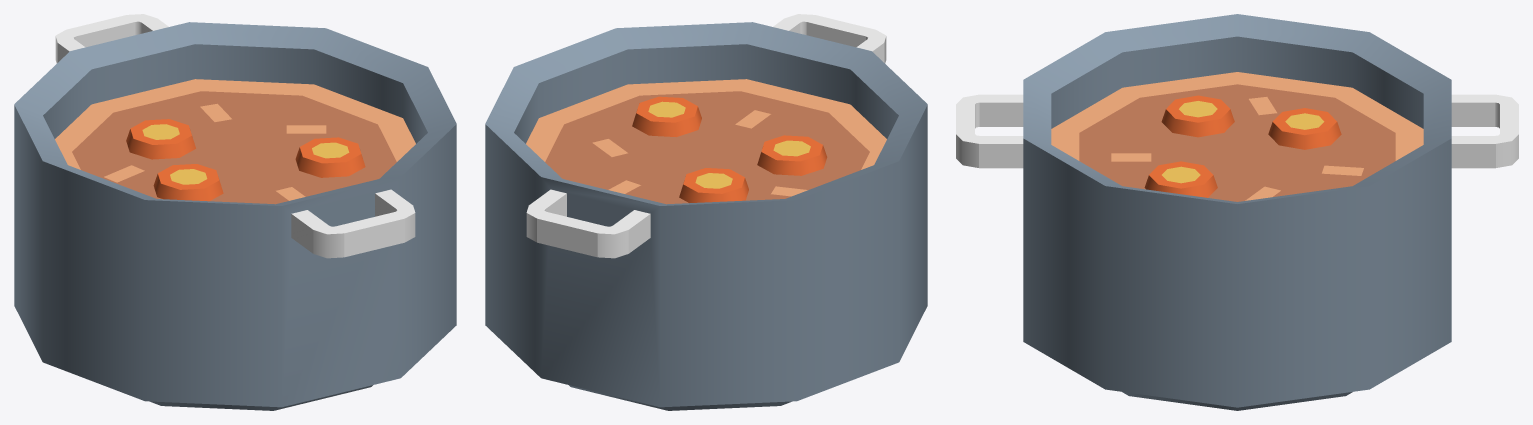
Rendered from Pot Stew.glb.
3 renders of one model, left to right at view 1: azimuth 30°, elevation 25°; view 2: azimuth 150°, elevation 25°; view 3: azimuth 270°, elevation 25°, orthographic.
Visible parts, largest first — view 1: Pot Stew; view 2: Pot Stew; view 3: Pot Stew.
Boxes of the visible parts, x1,y1,x2,y2 form: Pot Stew: (14,14,456,410); Pot Stew: (485,14,927,410); Pot Stew: (956,14,1518,410).
Size of the model in its own units: 0.6574 by 0.3608 by 0.8221.
